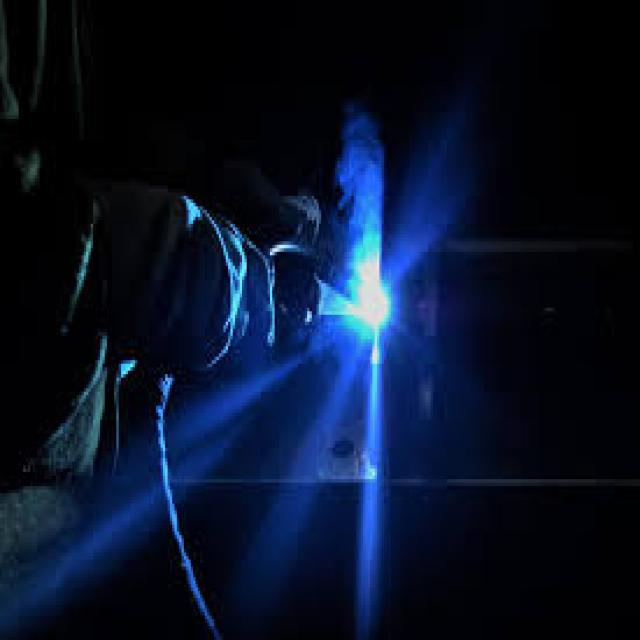welding: (356, 278, 394, 334)
